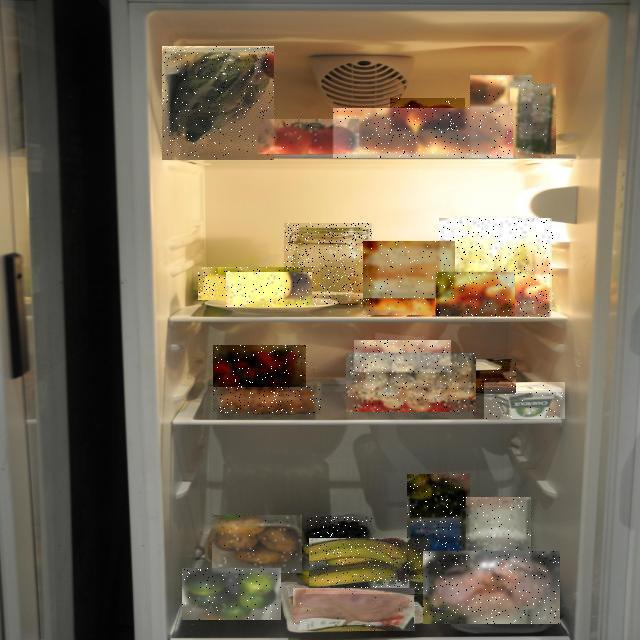Apple: (198, 267, 312, 300)
Banana: (309, 539, 428, 595)
Beans: (440, 218, 554, 317)
Blue Berries: (307, 516, 373, 548)
Butter: (354, 340, 451, 372)
Carrot: (436, 273, 515, 317), (363, 292, 435, 315)
Cheese: (226, 272, 312, 307), (484, 382, 565, 419)
Corn: (471, 359, 516, 394)
Flour: (284, 223, 372, 305), (363, 241, 455, 298)
Ham: (294, 588, 418, 631)
Heavy cream: (510, 84, 556, 158)
Lime: (182, 568, 281, 620)
Meat: (423, 551, 560, 624)
Milk: (407, 474, 470, 575)
Mushroom: (347, 353, 477, 412)
Onion: (390, 99, 465, 131)
Potatoes: (212, 515, 302, 573)
Shrimp: (213, 387, 321, 414)
Spinach: (162, 46, 274, 160)
Straw Berry: (214, 345, 308, 387)
Sugar: (470, 76, 532, 158), (466, 497, 531, 568)
Sweet potato: (333, 108, 513, 158)
Tomato Paste: (258, 119, 359, 154)
